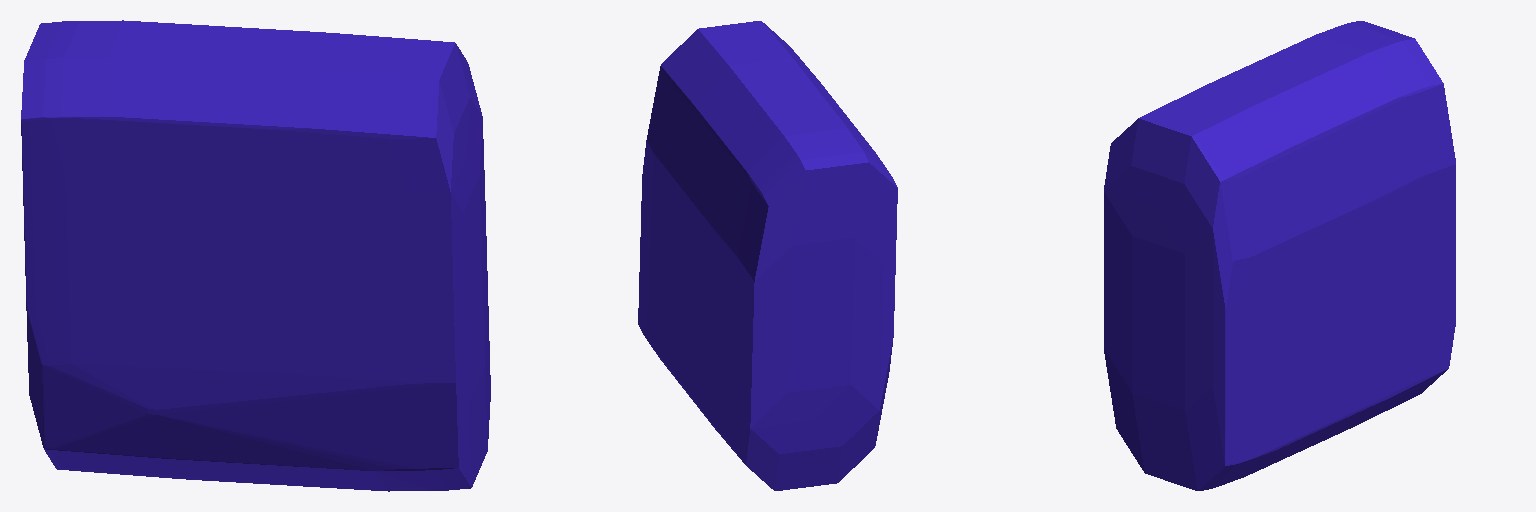
The robot description file, URDF, robot "matlab_mesh_step13_link7.obj":
<robot name="matlab_mesh_step13_link7.obj">
	<link name="link0">
		<visual>
			<origin xyz="0 0 0" rpy="0 0 0" />
			<geometry>
				<mesh filename="matlab_mesh_step13_link7.obj" scale="1.0 1.0 1.0" />
			</geometry>
			<material name="texture">
				<color rgba="0.3 0.2 0.8 0.5" />
			</material>
		</visual>
		<inertial>
			<mass value="0" />
			<inertia ixx="0.0" ixy="0.0" ixz="0.0" iyy="0.0" iyz="0.0" izz="0.0" />
		</inertial>
	<collision><geometry><mesh filename="matlab_mesh_step13_link7.obj" /></geometry></collision></link>
</robot>

--- What the picture shows (computed from the rendered views, not written in the file) ---
3 views of the same robot in one strip: view 1: azimuth 30°, elevation 25°; view 2: azimuth 150°, elevation 25°; view 3: azimuth 270°, elevation 25° (orthographic).
Robot: matlab_mesh_step13_link7.obj — 1 links, 0 joints (none); root link link0; default pose: every joint at zero.
Visible links, largest first — view 1: link0; view 2: link0; view 3: link0.
Boxes of the visible links, x1=… form: link0: x1=21, y1=20, x2=490, y2=491; link0: x1=638, y1=21, x2=897, y2=490; link0: x1=1104, y1=21, x2=1455, y2=490.
Bounding box of the posed robot: 0.2286 × 0.214 × 0.2367 m (x, y, z).
Meshes: 1 distinct files referenced, 1 mesh visuals loaded (1 OBJ).